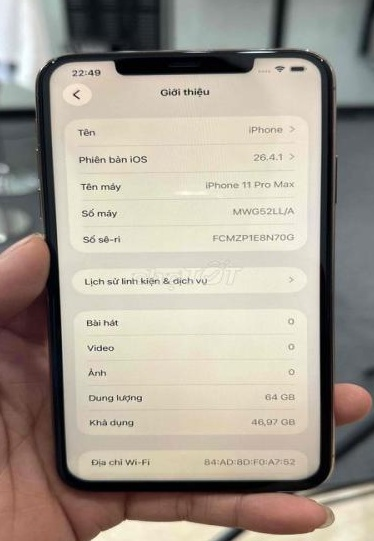scratch: (238, 43, 334, 64), (43, 53, 59, 66)
